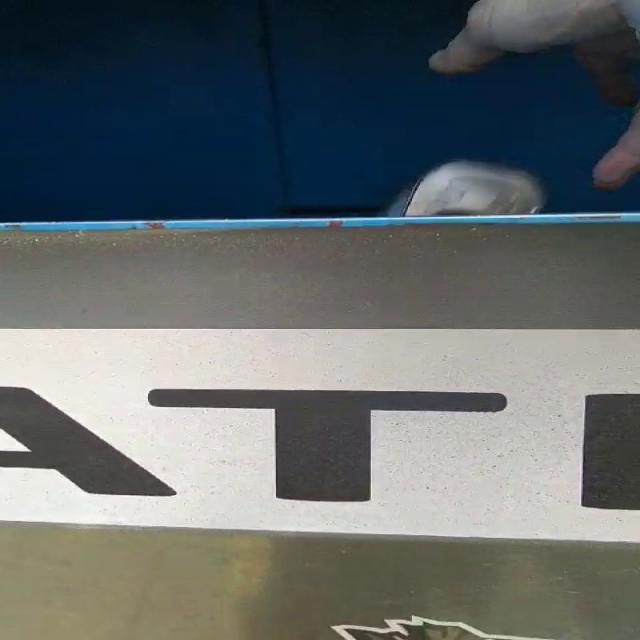bin: (1, 0, 639, 222), (2, 524, 640, 640)
metal: (404, 160, 545, 216)
